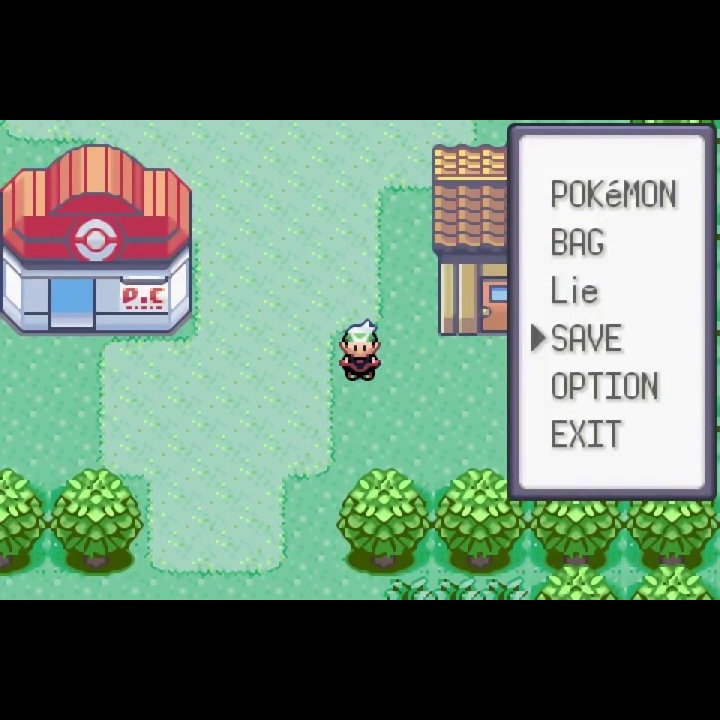grass: (433, 575, 481, 600), (483, 575, 531, 600), (382, 576, 432, 599)
house: (428, 142, 507, 337)
npc: (335, 314, 383, 386)
pokecen: (1, 142, 194, 335)
wall: (47, 468, 146, 577), (433, 468, 531, 577), (335, 468, 432, 576), (526, 501, 625, 566), (623, 501, 720, 564), (1, 467, 47, 577), (621, 565, 720, 600), (532, 565, 621, 600)
